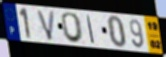0: (105, 14, 128, 49)
1: (19, 7, 33, 40)
9: (129, 18, 145, 50)
I: (86, 14, 96, 45)
O: (61, 12, 85, 45)
V: (36, 9, 57, 42)
